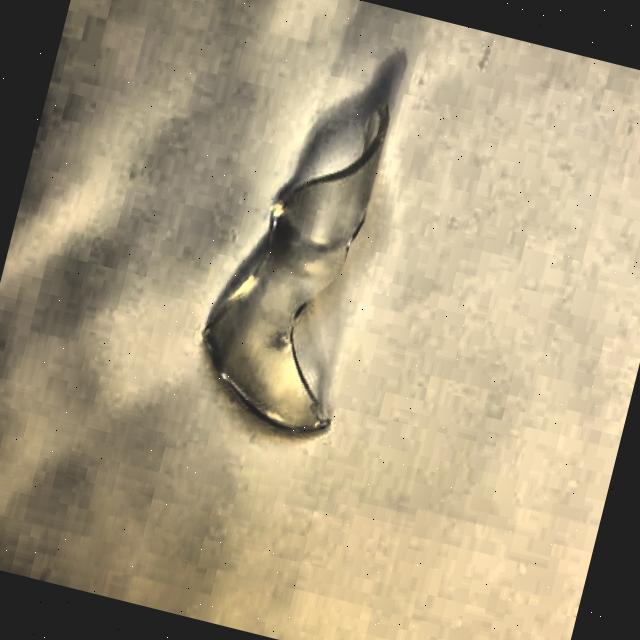glass: (188, 76, 404, 453)
